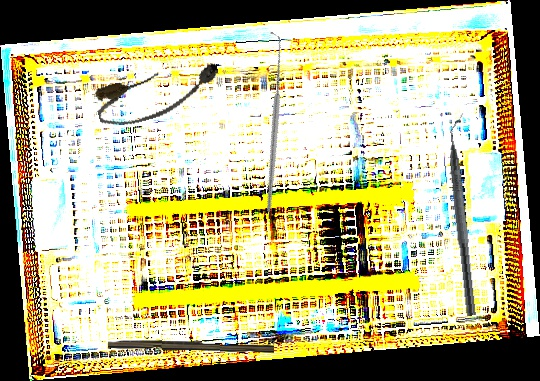Cannula: (91, 55, 226, 133)
Chopper: (442, 112, 490, 317)
Hook Surgical: (186, 31, 356, 214)
Scalpel Handle: (107, 337, 275, 354)
